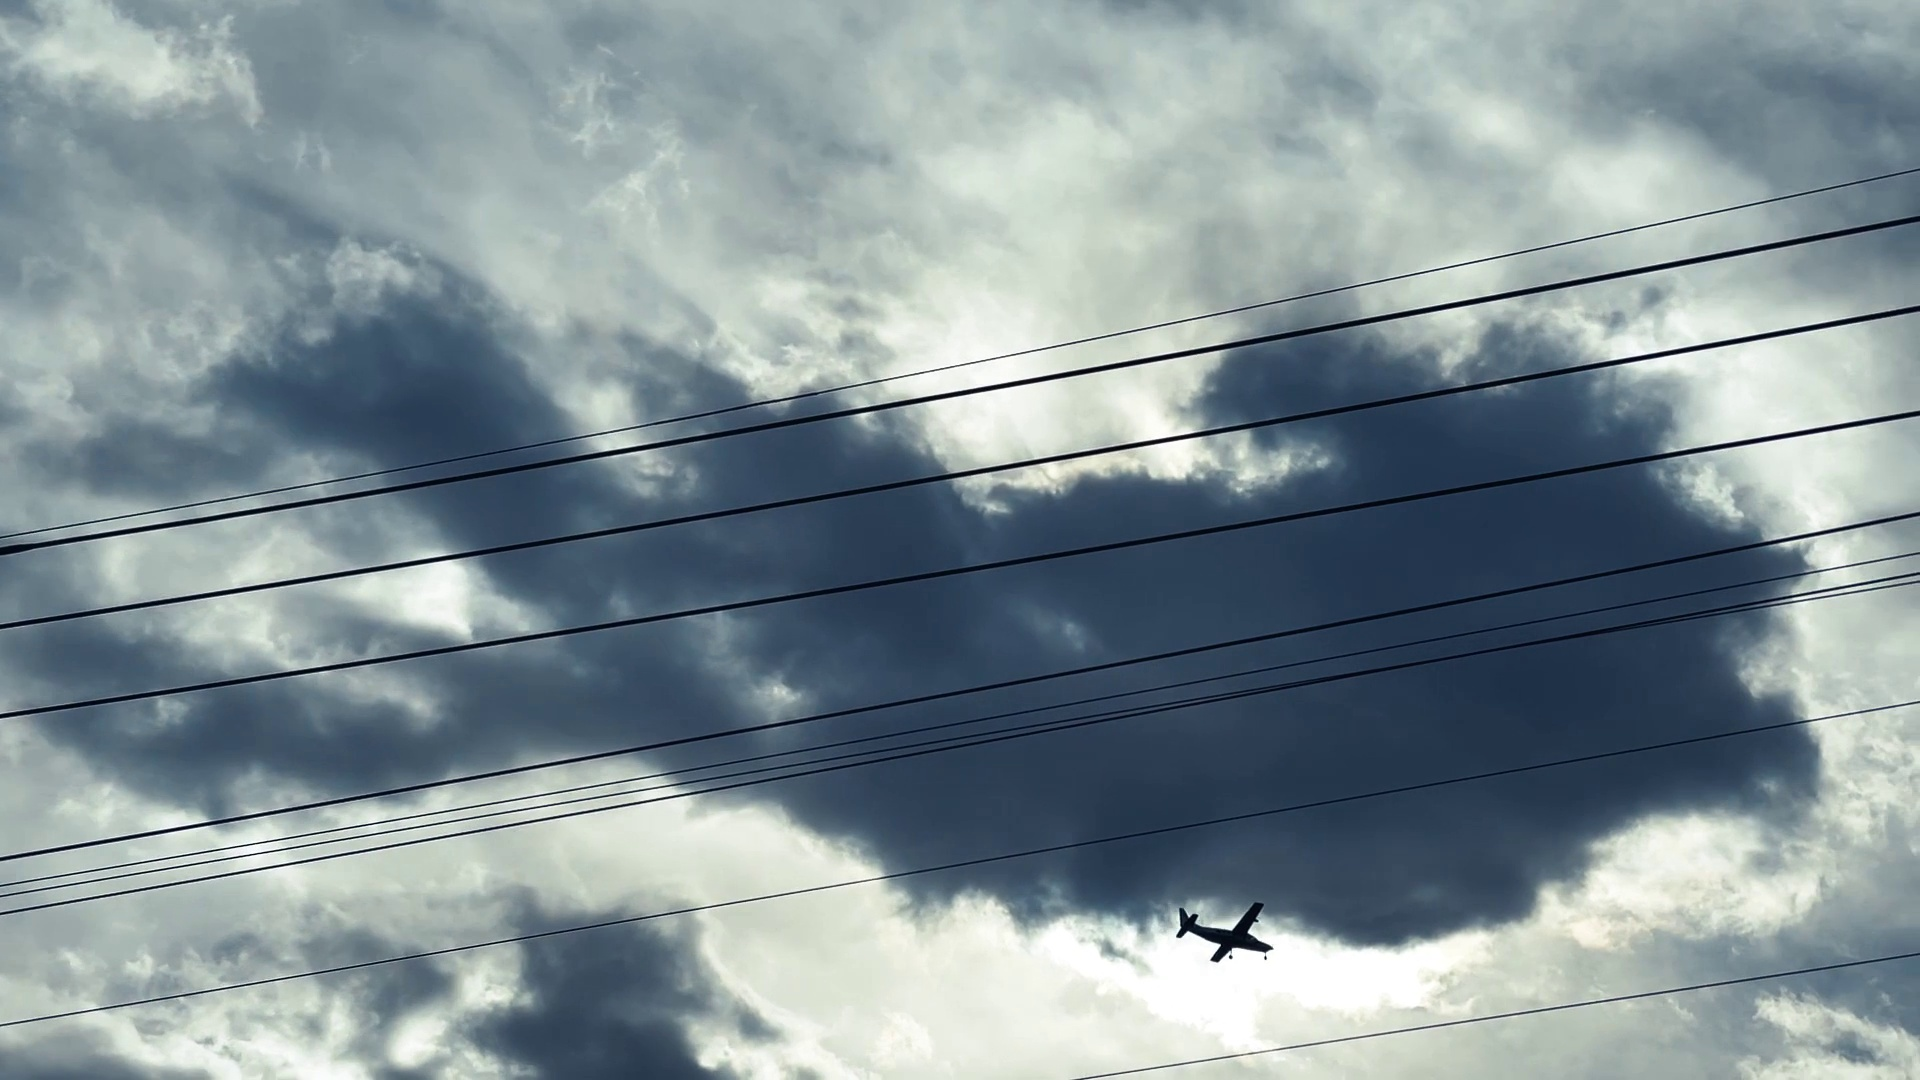plane: (1175, 899, 1273, 961)
